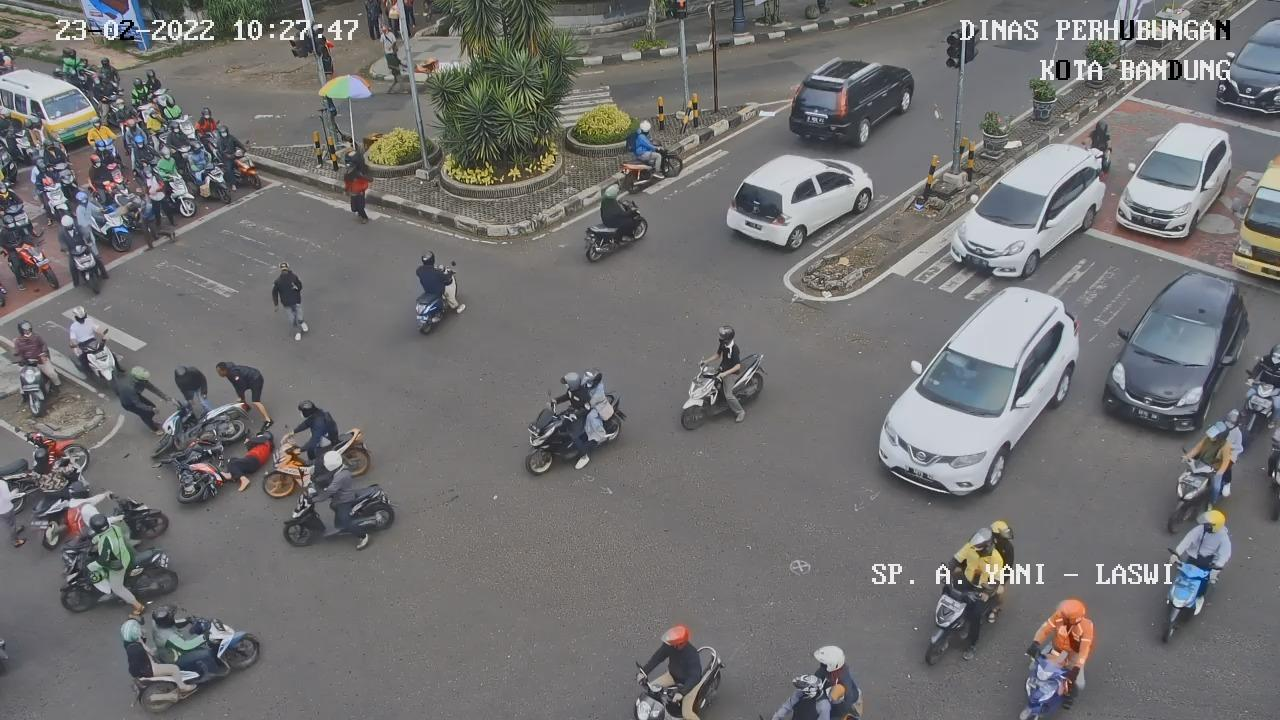accident: (220, 431, 275, 491)
